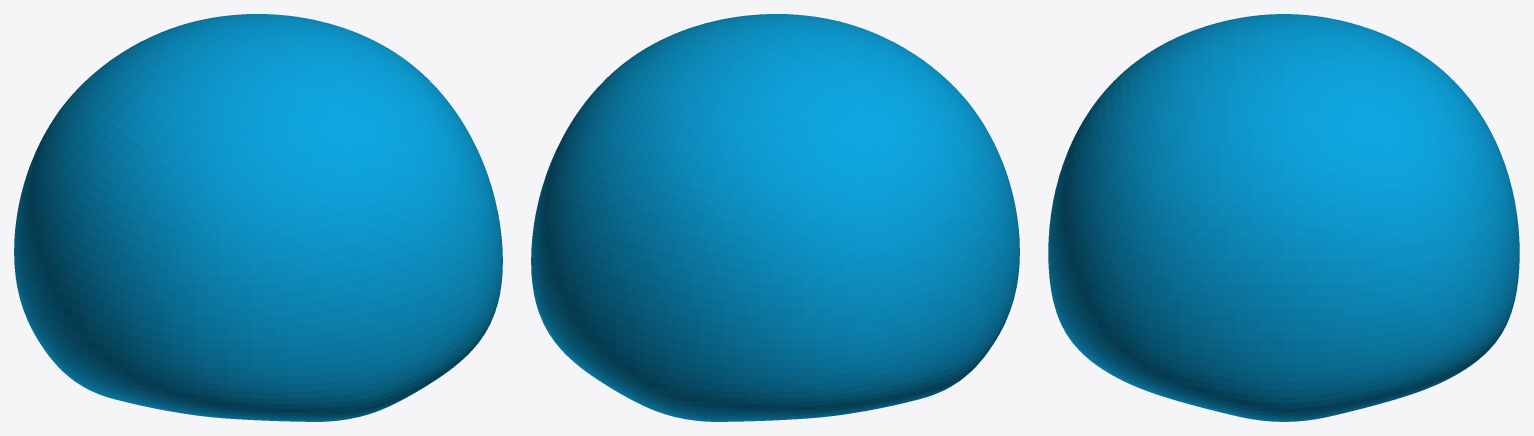
File: slime.fbx
3 renders of one model, left to right at view 1: azimuth 30°, elevation 25°; view 2: azimuth 150°, elevation 25°; view 3: azimuth 270°, elevation 25°, orthographic.
Parts seen in each view (by area): view 1: OuterBody; view 2: OuterBody; view 3: OuterBody.
Boxes of the visible parts, box(x1,y1,x2,y2) form: OuterBody: box(14, 14, 502, 421); OuterBody: box(531, 14, 1019, 421); OuterBody: box(1048, 14, 1519, 421).
Size of the model in its own units: 168 by 122 by 168.
